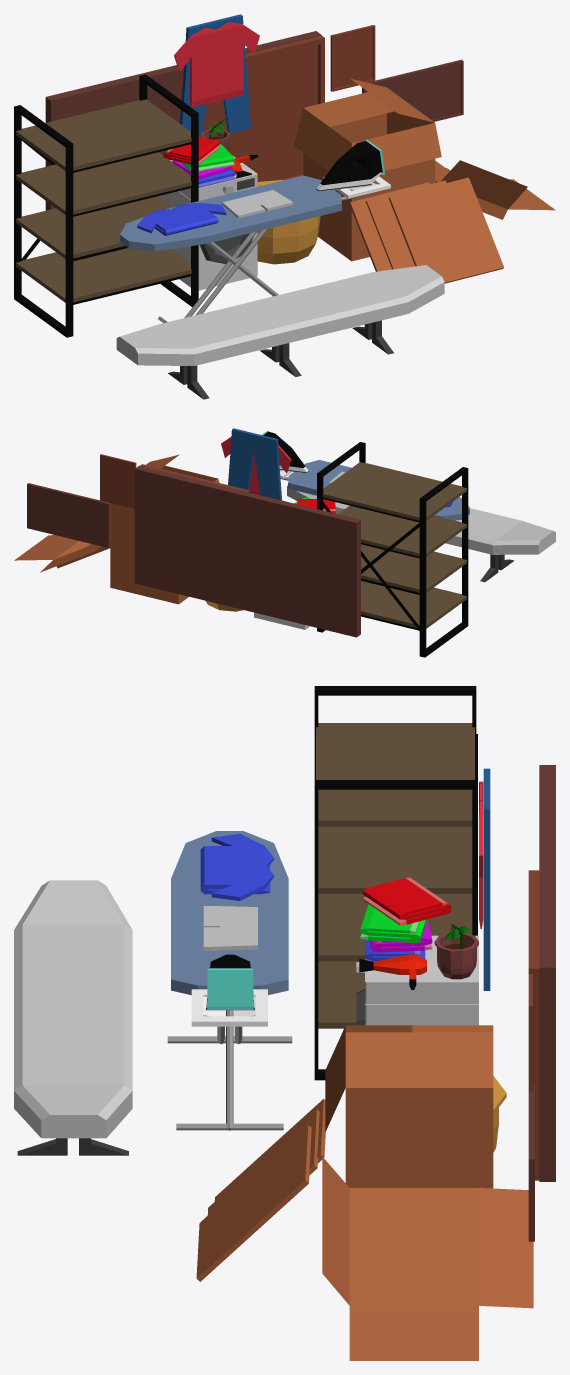
Rendered from lavanderia.fbx.
The picture shows the model from 3 angles, top to bottom: view 1: azimuth 30°, elevation 25°; view 2: azimuth 150°, elevation 25°; view 3: azimuth 270°, elevation 25°; orthographic projection. The views are drawn at different scales.
Visible parts, largest first — view 1: Estante.001, Banca.001, Caja grande.001, cuadro chikito.001, Cube, carton.003, Polera.001, Cuadro grande.001, Lavadora.001, Cuadro grande.002, Caja chikita.001, cuadro chikito.002 (+9 smaller); view 2: Cuadro grande.001, Estante.001, Banca.001, Cuadro grande.002, Caja grande.001, Pantalones.001, Caja chikita.001, cuadro chikito.002, Cube, Polera.001, Plancha, cuadro chikito.001 (+1 smaller); view 3: Estante.001, Caja chikita.001, Banca.001, Caja grande.001, Cube, Cuadro grande.001, carton.003, Lavadora.001, Polera.002, toalla.04, cuadro chikito.001, Plancha (+8 smaller).
Boxes of the visible parts, x1,y1,x2,y2 form: Estante.001: [14, 74, 198, 337]; Banca.001: [116, 265, 444, 399]; Caja grande.001: [294, 78, 441, 261]; cuadro chikito.001: [203, 35, 324, 181]; Cube: [120, 175, 390, 322]; carton.003: [389, 177, 503, 283]; Polera.001: [174, 22, 259, 107]; Cuadro grande.001: [45, 31, 321, 210]; Lavadora.001: [159, 155, 257, 290]; Cuadro grande.002: [362, 59, 463, 121]; Caja chikita.001: [435, 160, 555, 219]; cuadro chikito.002: [330, 25, 375, 91]; Cuadro grande.001: [134, 465, 360, 637]; Estante.001: [317, 442, 468, 657]; Banca.001: [287, 485, 555, 582]; Cuadro grande.002: [27, 483, 109, 547]; Caja grande.001: [110, 454, 219, 604]; Pantalones.001: [228, 428, 282, 500]; Caja chikita.001: [14, 500, 110, 572]; cuadro chikito.002: [100, 454, 136, 508]; Cube: [280, 460, 469, 520]; Polera.001: [221, 437, 291, 494]; Plancha: [262, 430, 308, 472]; cuadro chikito.001: [140, 464, 249, 492]; Estante.001: [314, 686, 477, 1080]; Caja chikita.001: [322, 1157, 533, 1360]; Banca.001: [14, 880, 132, 1155]; Caja grande.001: [325, 1025, 493, 1188]; Cube: [167, 831, 292, 1130]; Cuadro grande.001: [539, 765, 555, 1181]; carton.003: [196, 1124, 311, 1281]; Lavadora.001: [356, 935, 478, 1025]; Polera.002: [200, 833, 273, 900]; toalla.04: [362, 877, 451, 925]; cuadro chikito.001: [528, 870, 539, 1180]; Plancha: [205, 954, 254, 1010].
Size of the model in its own units: 3326 by 1399 by 1963.
